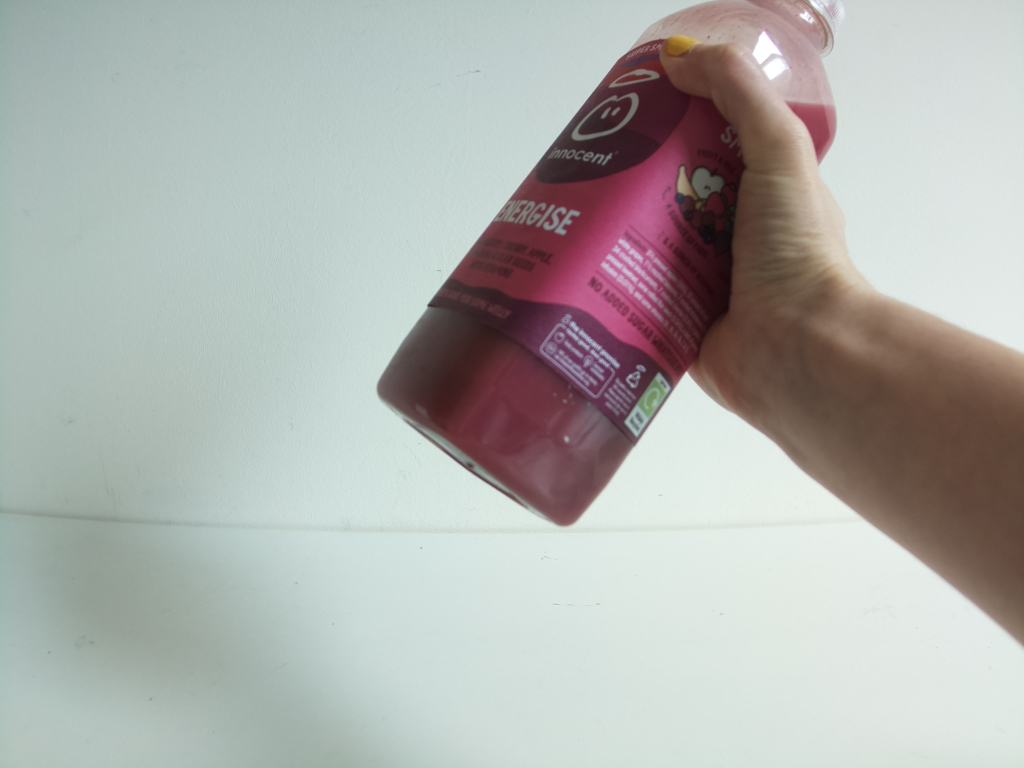juice: (373, 1, 852, 533)
